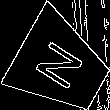N_SE: (31, 36, 91, 96)
